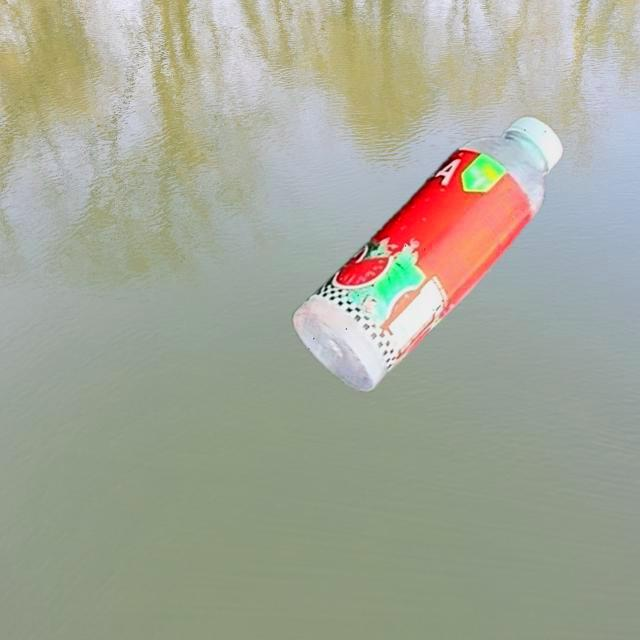Plastic: (288, 114, 566, 397)
